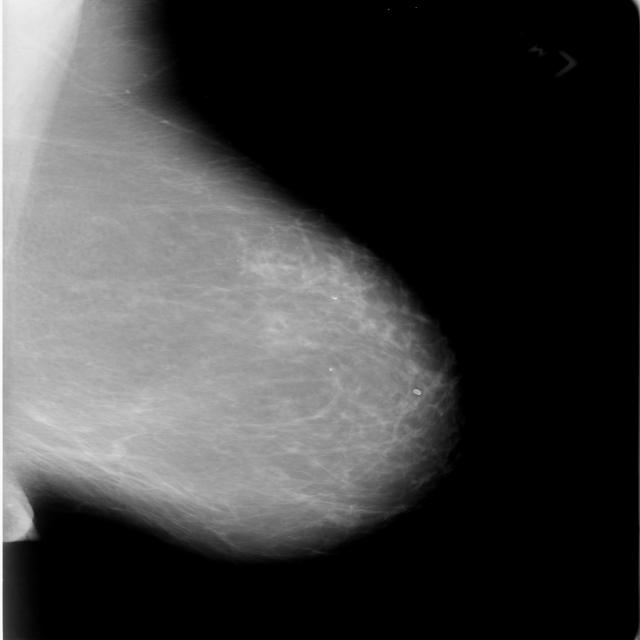normal: (0, 31, 474, 562)
